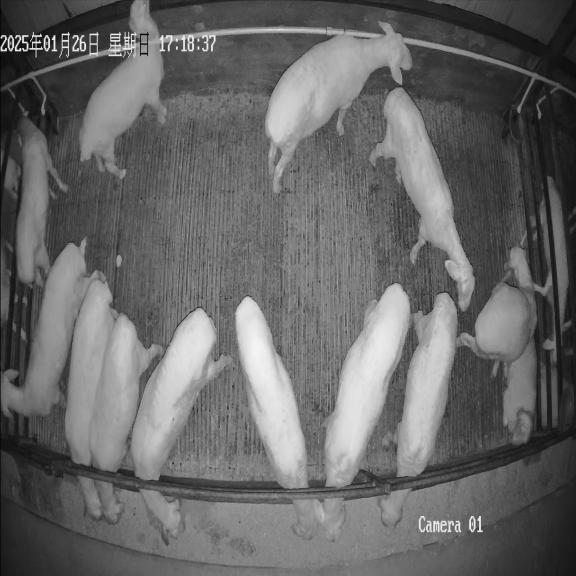drinking: (14, 105, 67, 286)
eating: (130, 307, 232, 545), (319, 283, 410, 541), (235, 296, 324, 539), (377, 292, 457, 527), (89, 313, 164, 523), (65, 278, 117, 519)
lying: (504, 331, 536, 444)
stand: (265, 22, 412, 193), (369, 87, 475, 311), (2, 238, 103, 421), (80, 0, 167, 179), (456, 246, 537, 377)
